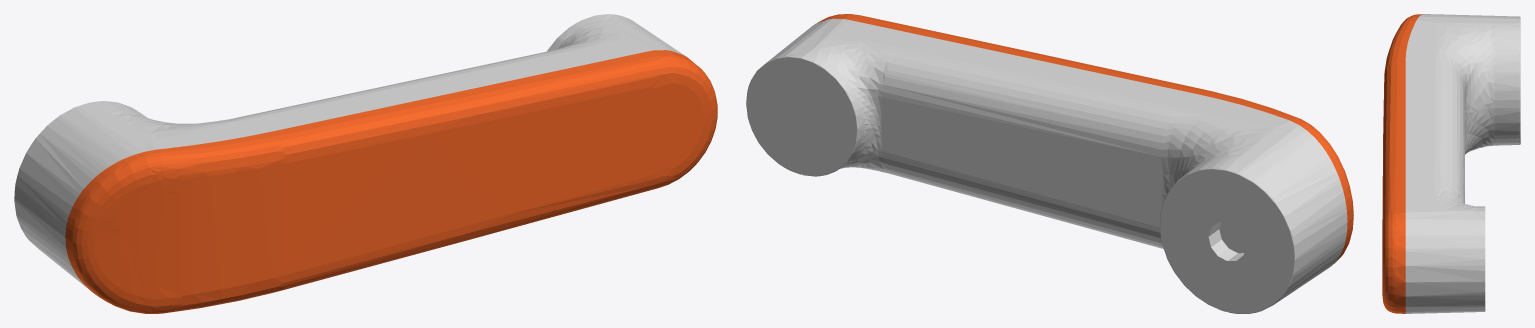
The picture shows the model from 3 angles, left to right: view 1: azimuth 30°, elevation 25°; view 2: azimuth 150°, elevation 25°; view 3: azimuth 270°, elevation 25°; orthographic projection. The views are drawn at different scales.
Visible parts, largest first — view 1: 19; view 2: 19; view 3: 19.
Boxes of the visible parts, x1=… form: 19: x1=14, y1=14, x2=717, y2=313; 19: x1=746, y1=14, x2=1353, y2=313; 19: x1=1382, y1=14, x2=1520, y2=313.
Bounding box in the file's own units: 0.3089 × 0.0761 × 0.0785.
